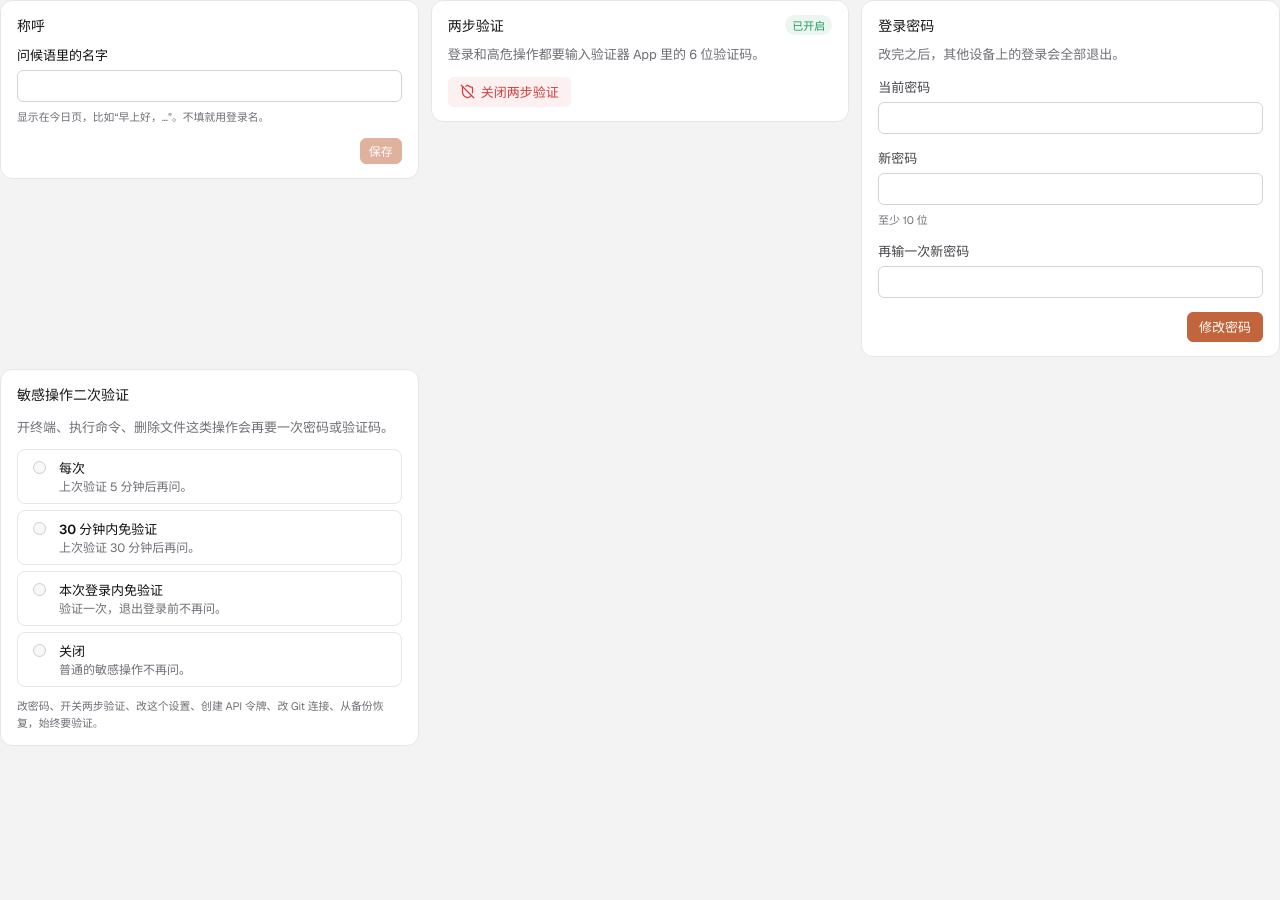
Test: security tab › checks the new password before sending it
Type "0123456789" into the password field labelled "当前密码" at coordinates (1071, 118), box [878,102,1263,134]
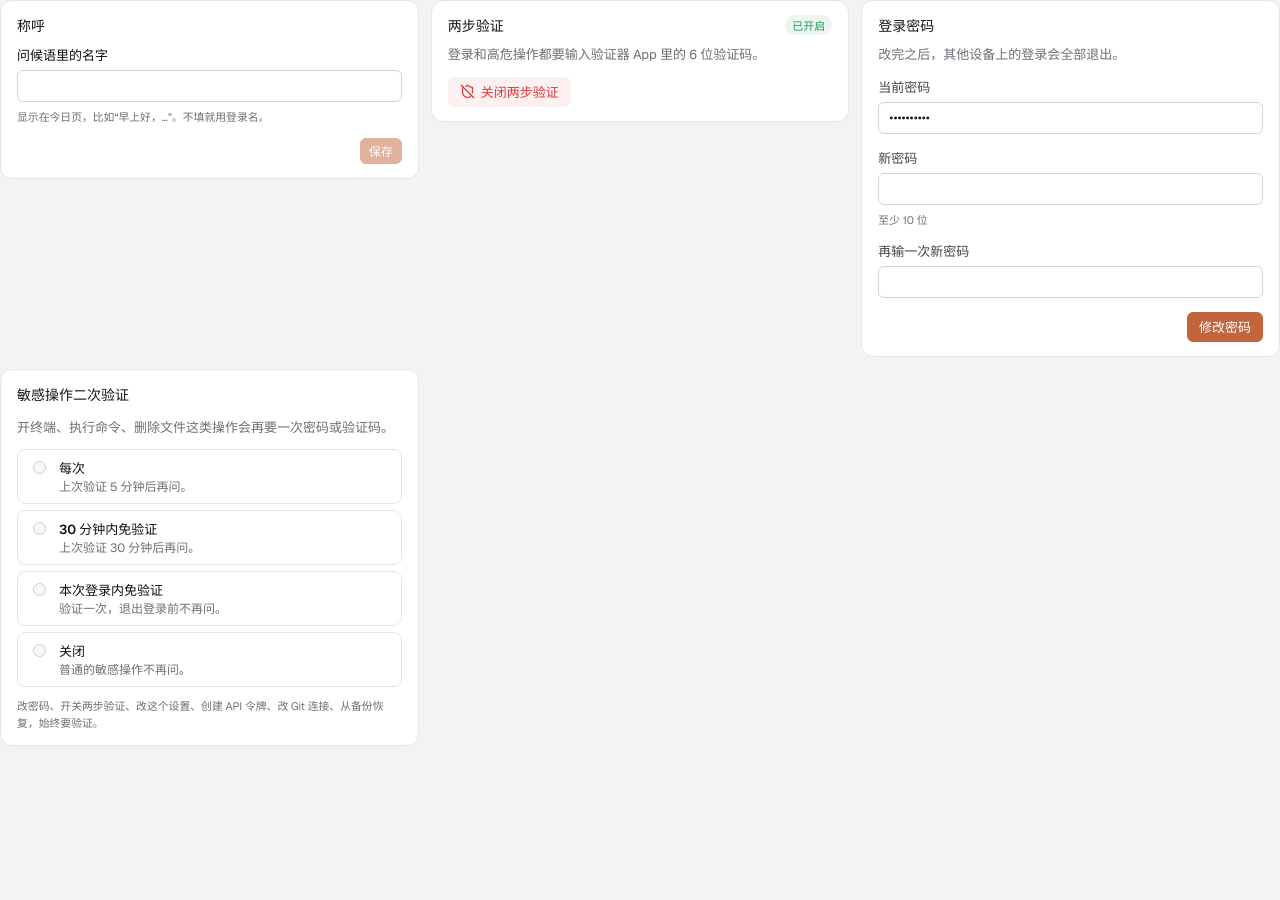
Type "abcdefghijk" into the password field labelled "新密码 至少 10 位" at coordinates (1071, 188), box [878,172,1263,204]
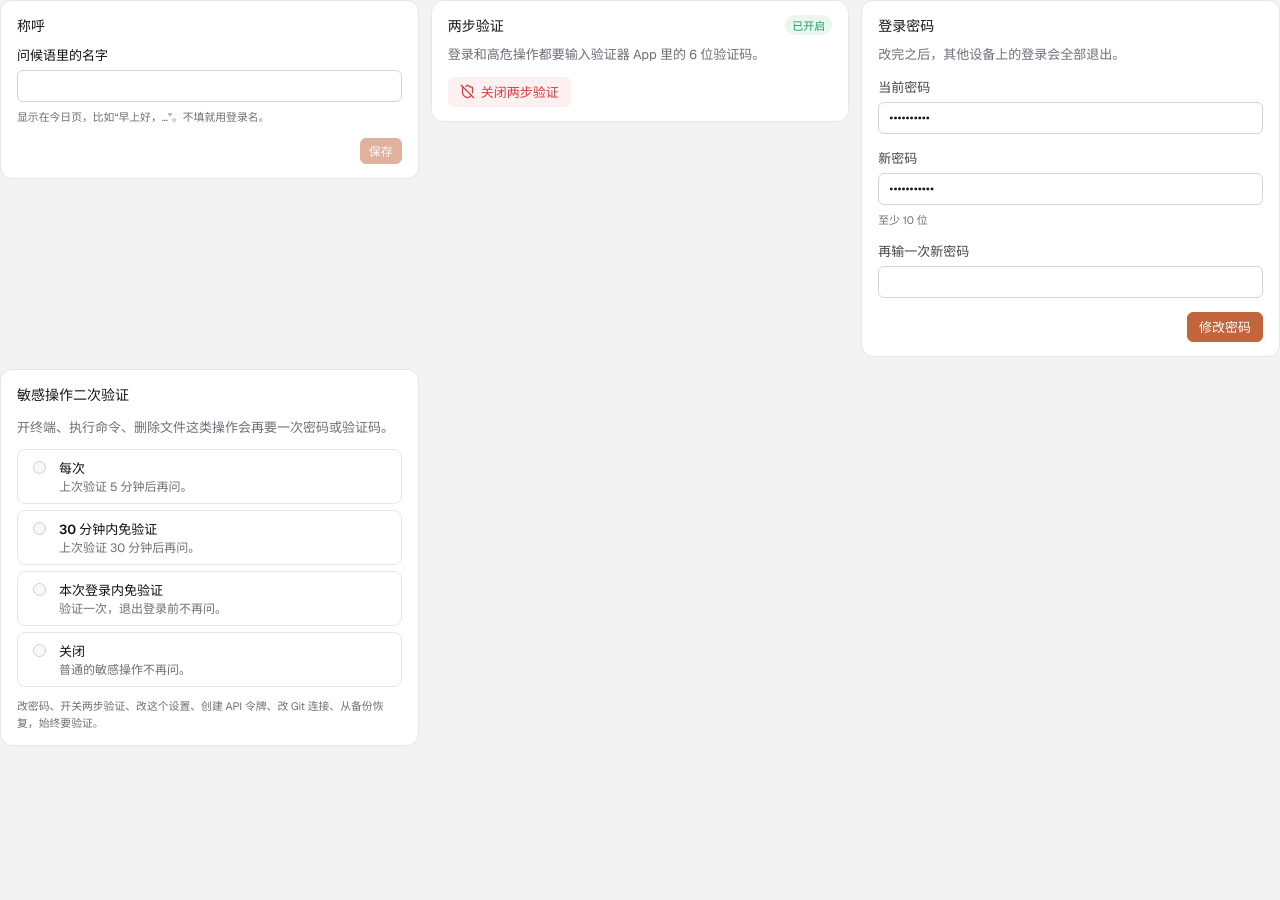
Type "abcdefghijX" into the password field labelled "再输一次新密码" at coordinates (1071, 282), box [878,266,1263,298]
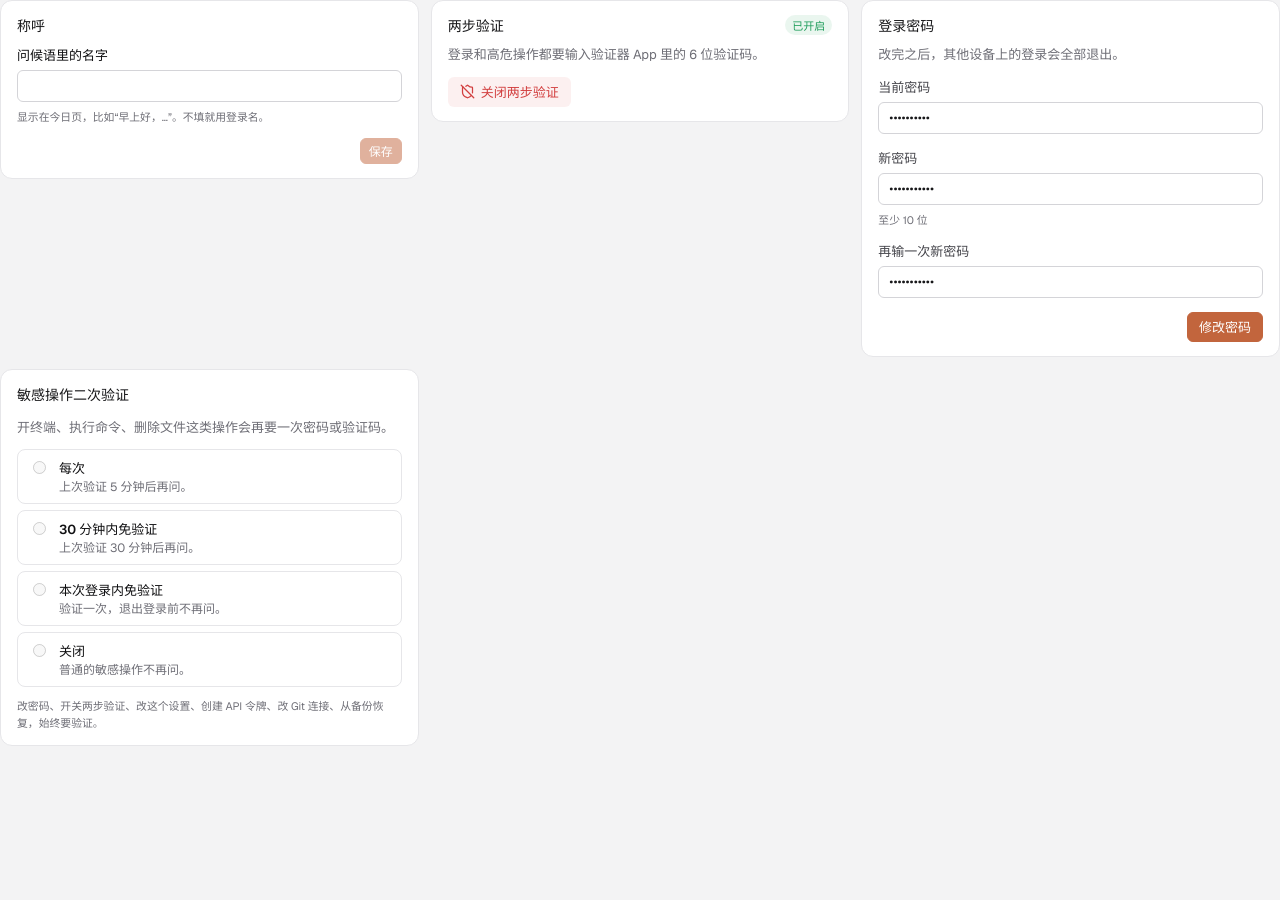
Click the button "修改密码" at coordinates (1225, 326), box [1187,312,1263,342]
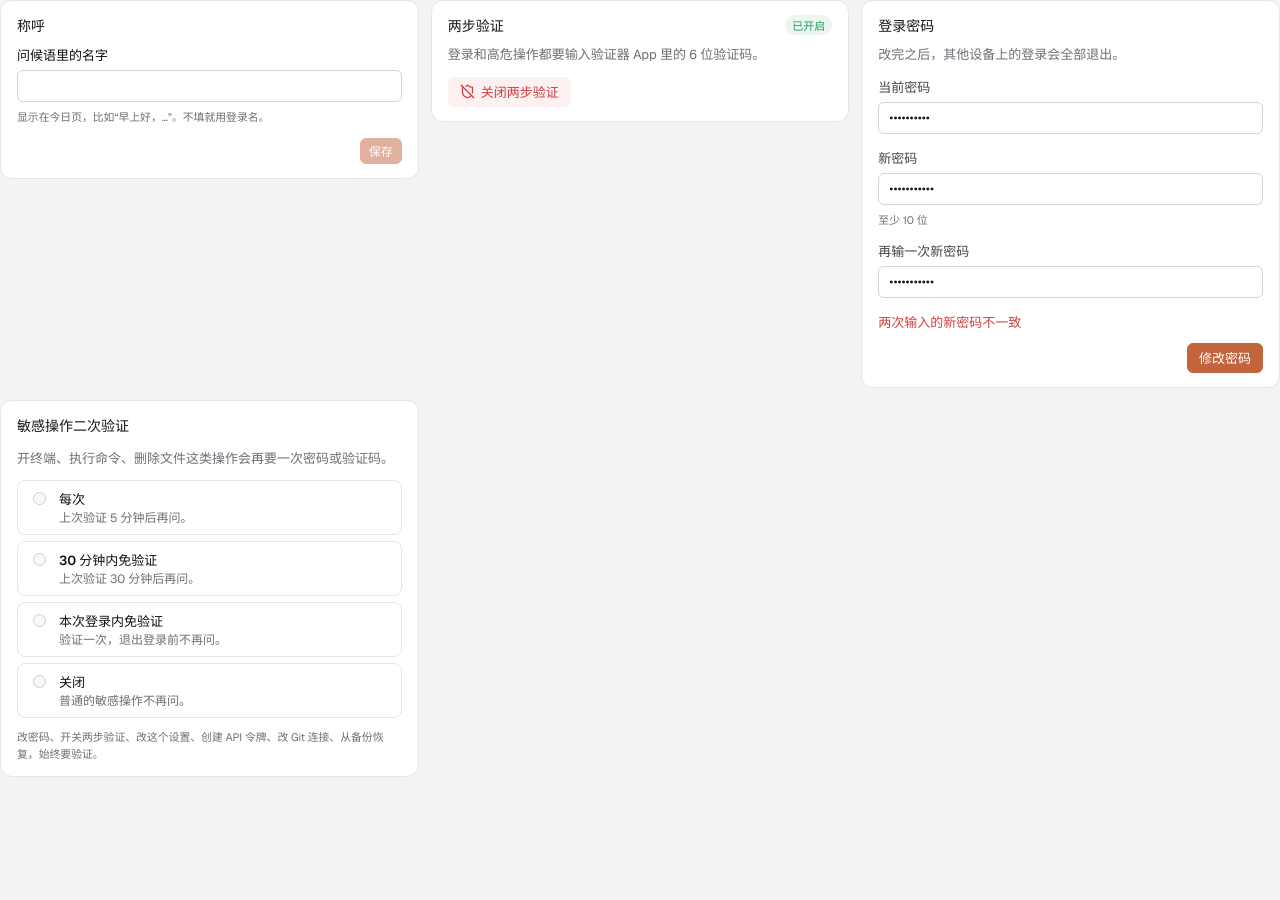
Result: the text "两次输入的新密码不一致" is shown at [878,314,1021,330]
